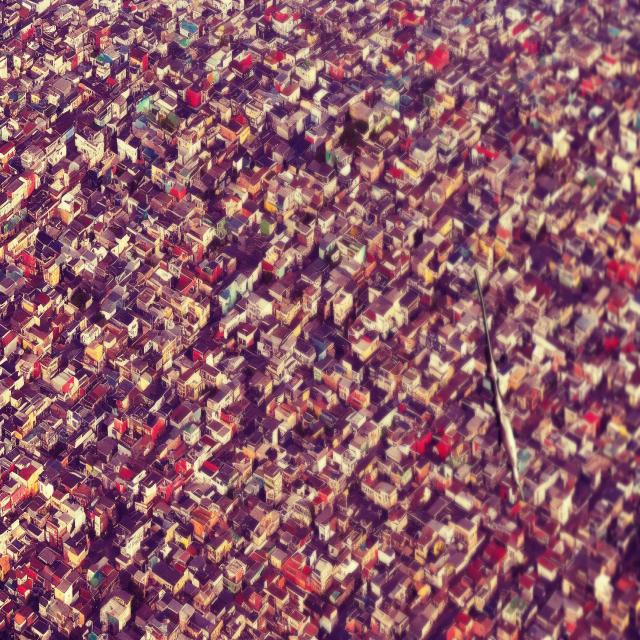airplane: (474, 269, 524, 496)
